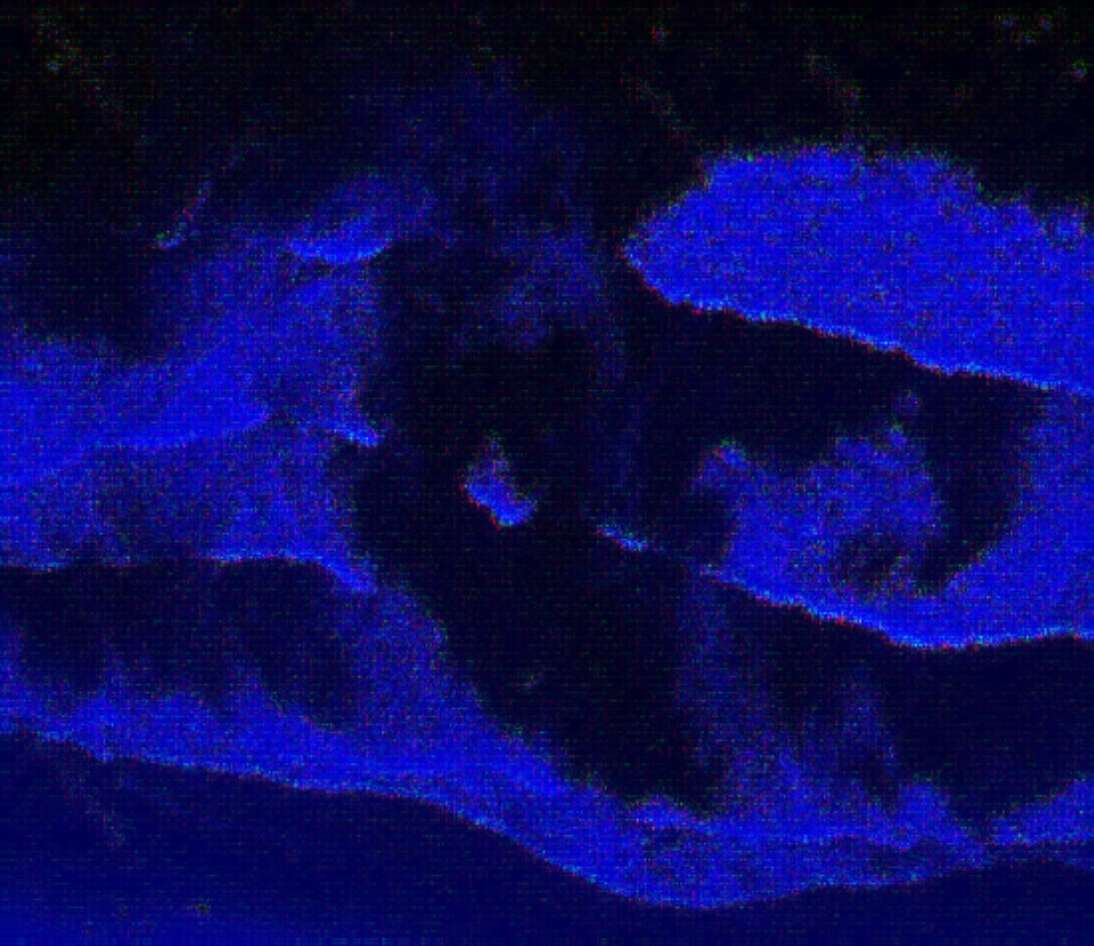rip_current: (324, 78, 779, 849)
